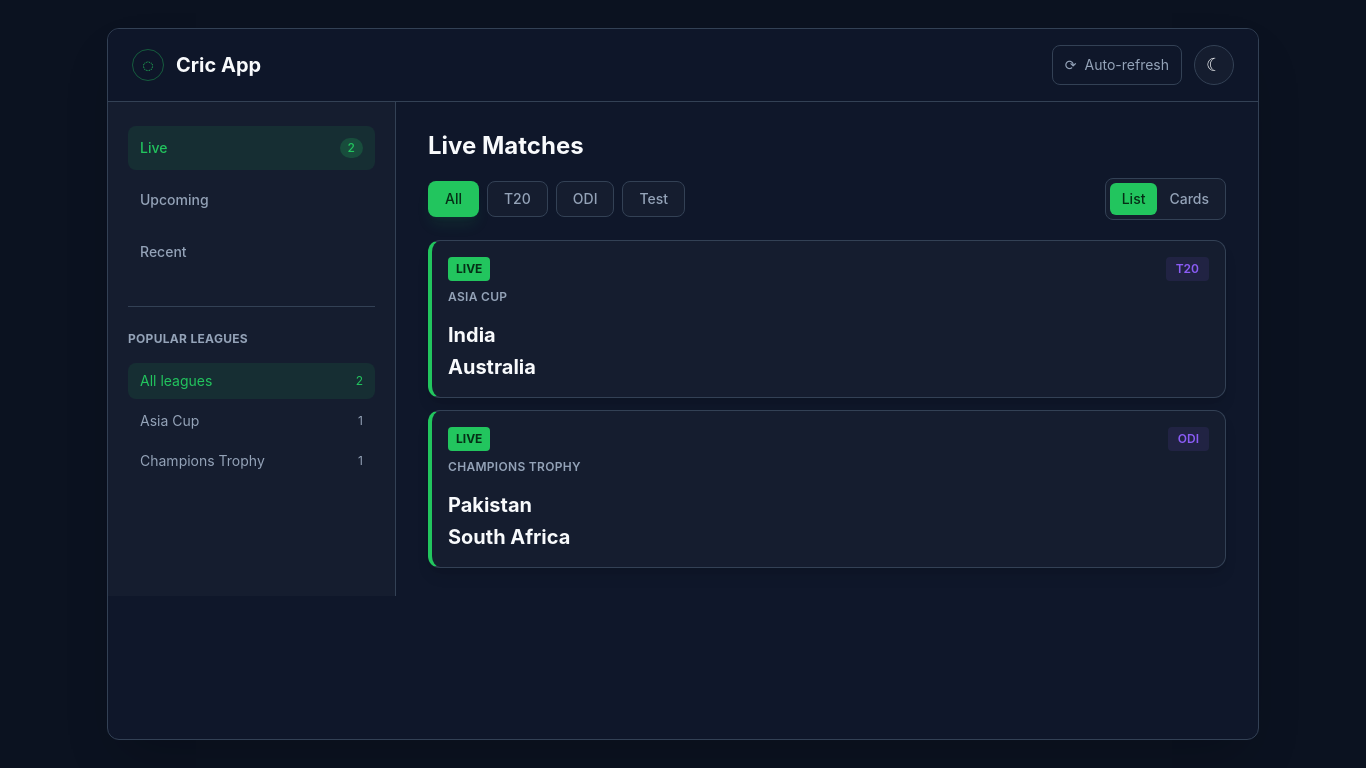
it: MatchListPage › combines selected league and match-type filters
The width and height of the screenshot is (1366, 768).
What coordinates should you click on to do the following:
click the button with aria-label "Filter league Asia Cup"
I would click on:
 (252, 421)
Its box is [128,403,375,439].
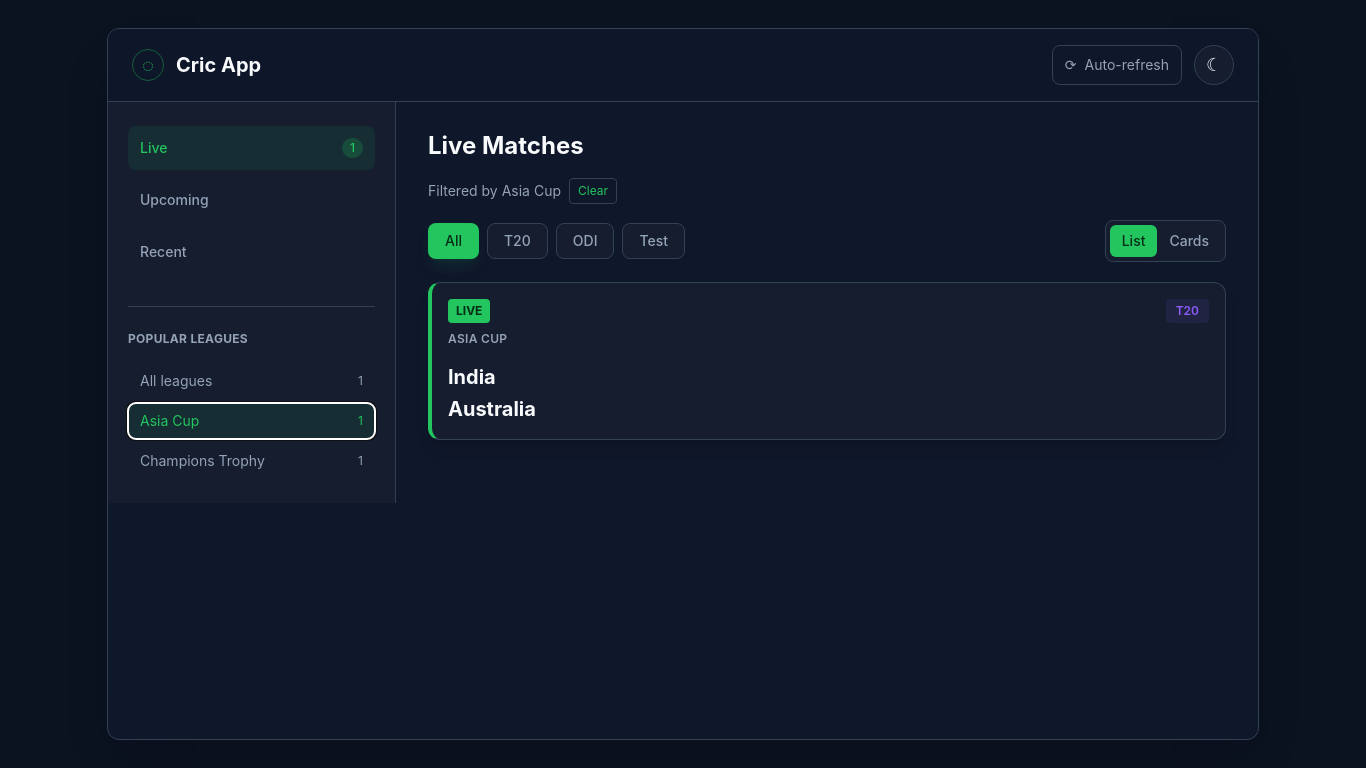
What coordinates should you click on to do the following:
click the button "ODI"
I would click on:
 (585, 241)
Its box is [556,223,614,259].
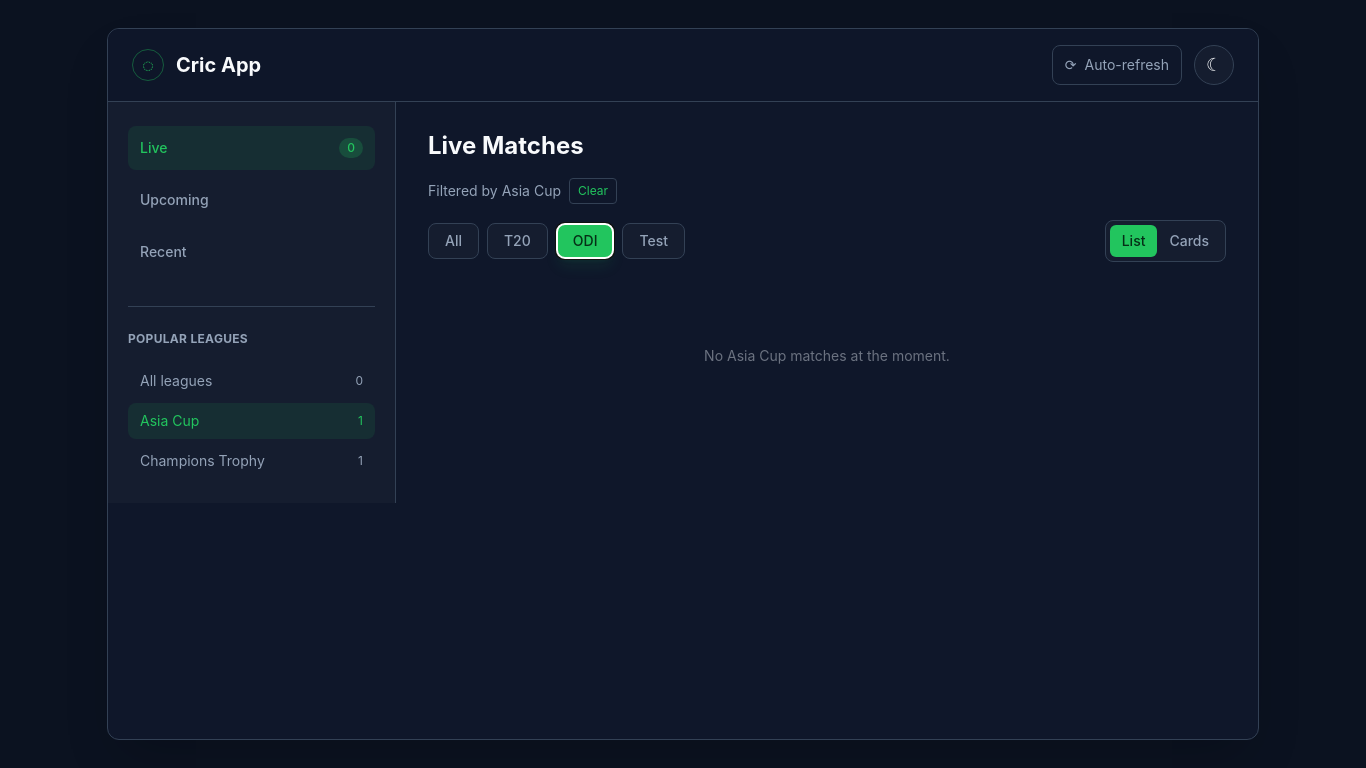
Expected: the button "Pakistan" is not shown
Expected: the button "India" is gone
Expected: the text "No Asia Cup matches at the moment." is shown, [704,347,950,364]
